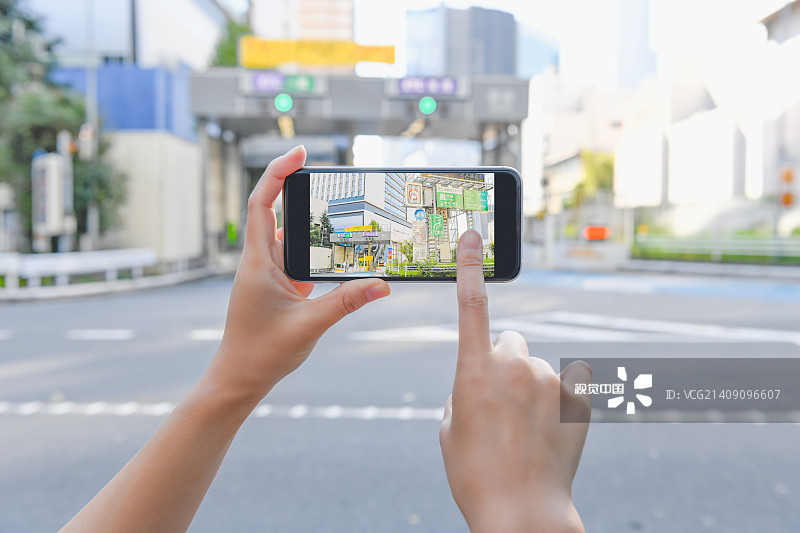taking photos: (172, 127, 625, 528)
